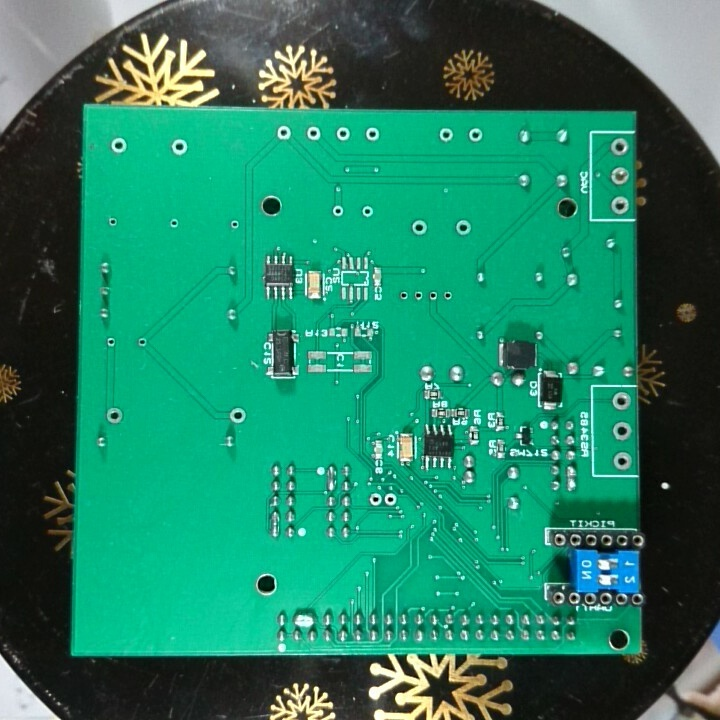F: (608, 418, 634, 446), (609, 446, 633, 472), (609, 389, 634, 413), (607, 135, 630, 159), (609, 192, 631, 217), (608, 164, 631, 186), (168, 135, 189, 159), (108, 133, 129, 157), (360, 125, 385, 145), (436, 124, 457, 147), (408, 217, 430, 238), (104, 406, 125, 427), (453, 217, 474, 238), (274, 122, 294, 143), (333, 123, 351, 146), (227, 405, 247, 425), (466, 126, 486, 146), (382, 490, 401, 509), (365, 489, 383, 509), (305, 123, 322, 144), (439, 286, 456, 306), (329, 202, 346, 221), (225, 215, 242, 232), (165, 215, 182, 231), (102, 335, 118, 351), (105, 214, 121, 229), (359, 204, 374, 220), (411, 287, 425, 304), (397, 287, 410, 305), (135, 335, 149, 351), (427, 287, 439, 303)
P: (290, 609, 319, 628), (325, 461, 338, 495), (268, 509, 282, 540), (565, 463, 579, 493)
